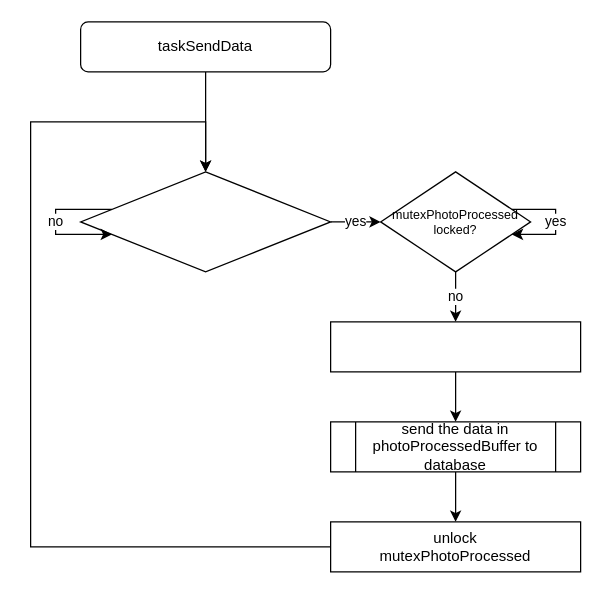
Image size: 603x594. Some labels were removed from this diagram. Here are the shapes that lost their labels. From the top down, the centre of each, then its label:
At point 205,221: "notificationPhotoProcessed pending?".
At point 455,346: "lock mutexPhotoProcessed".
